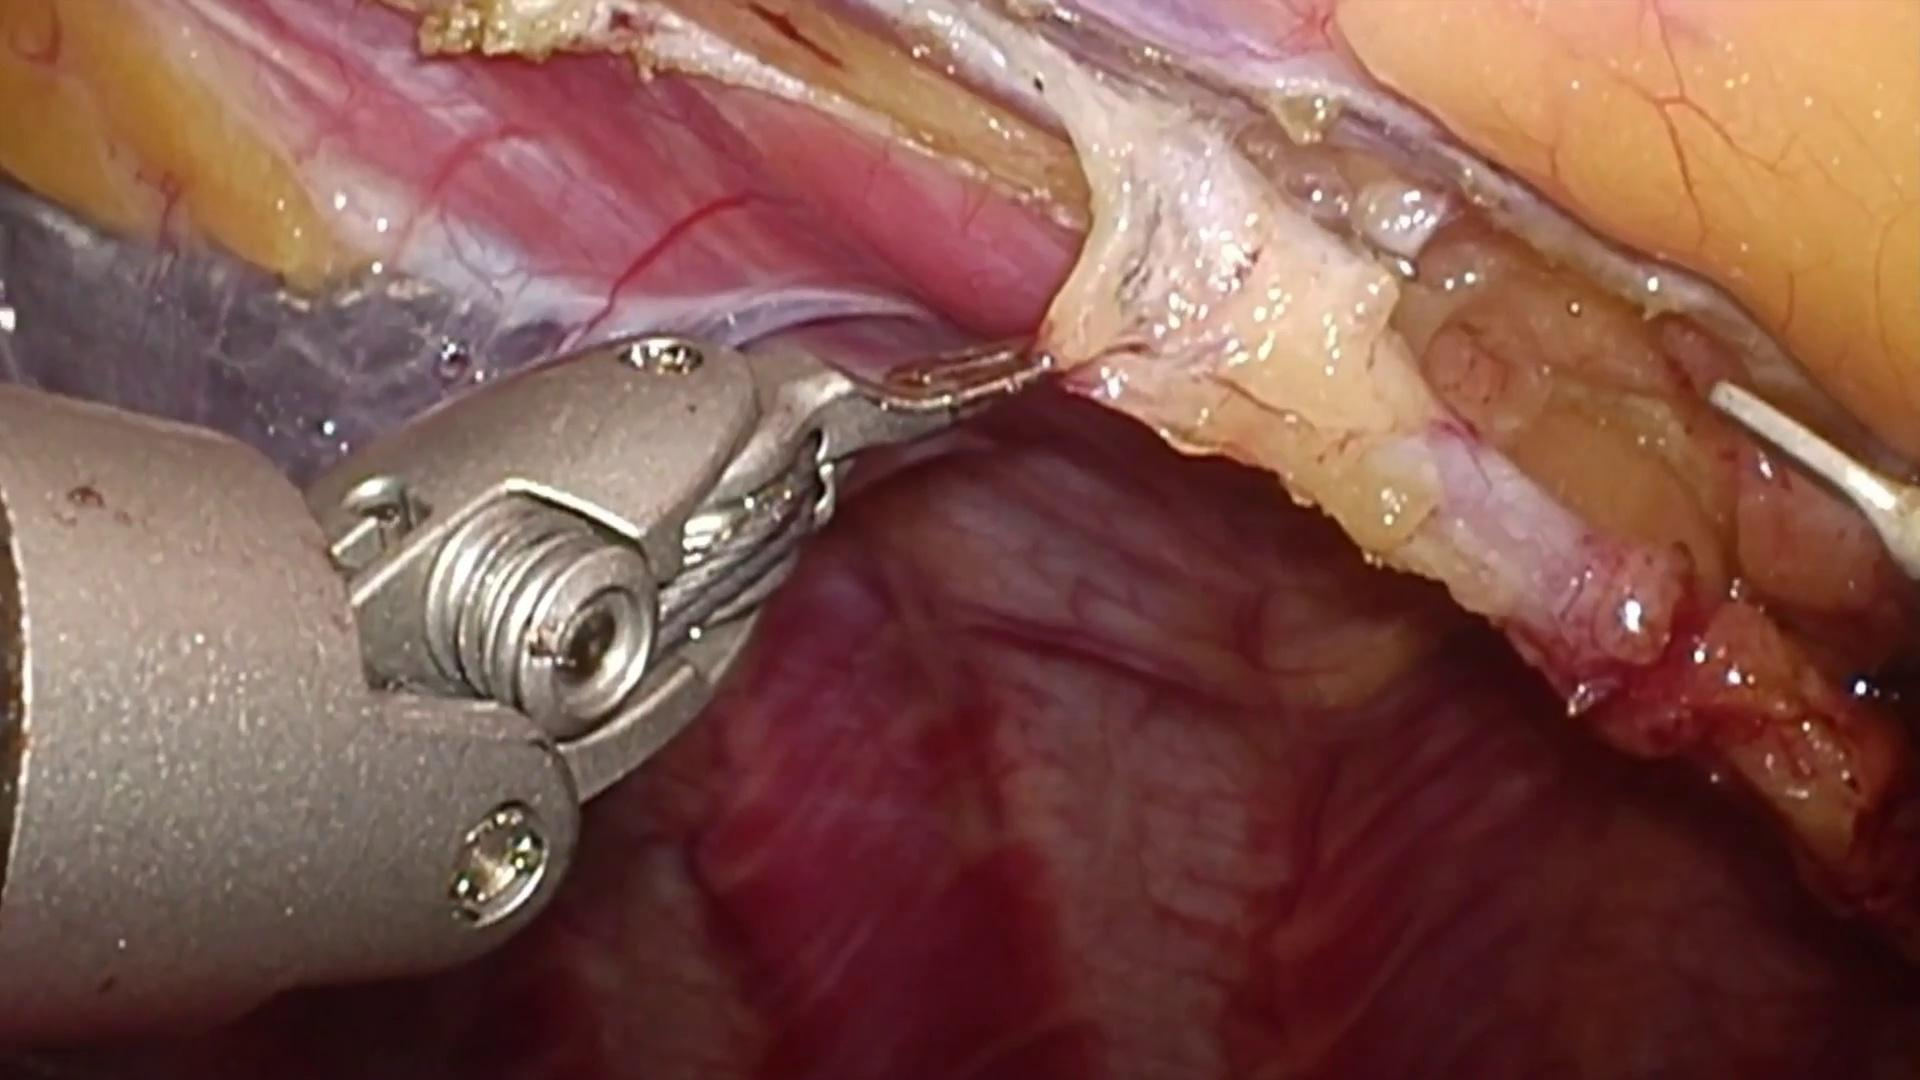Cautery_Spatula: (1704, 376, 1920, 596)
Debakey: (748, 331, 1080, 458)
